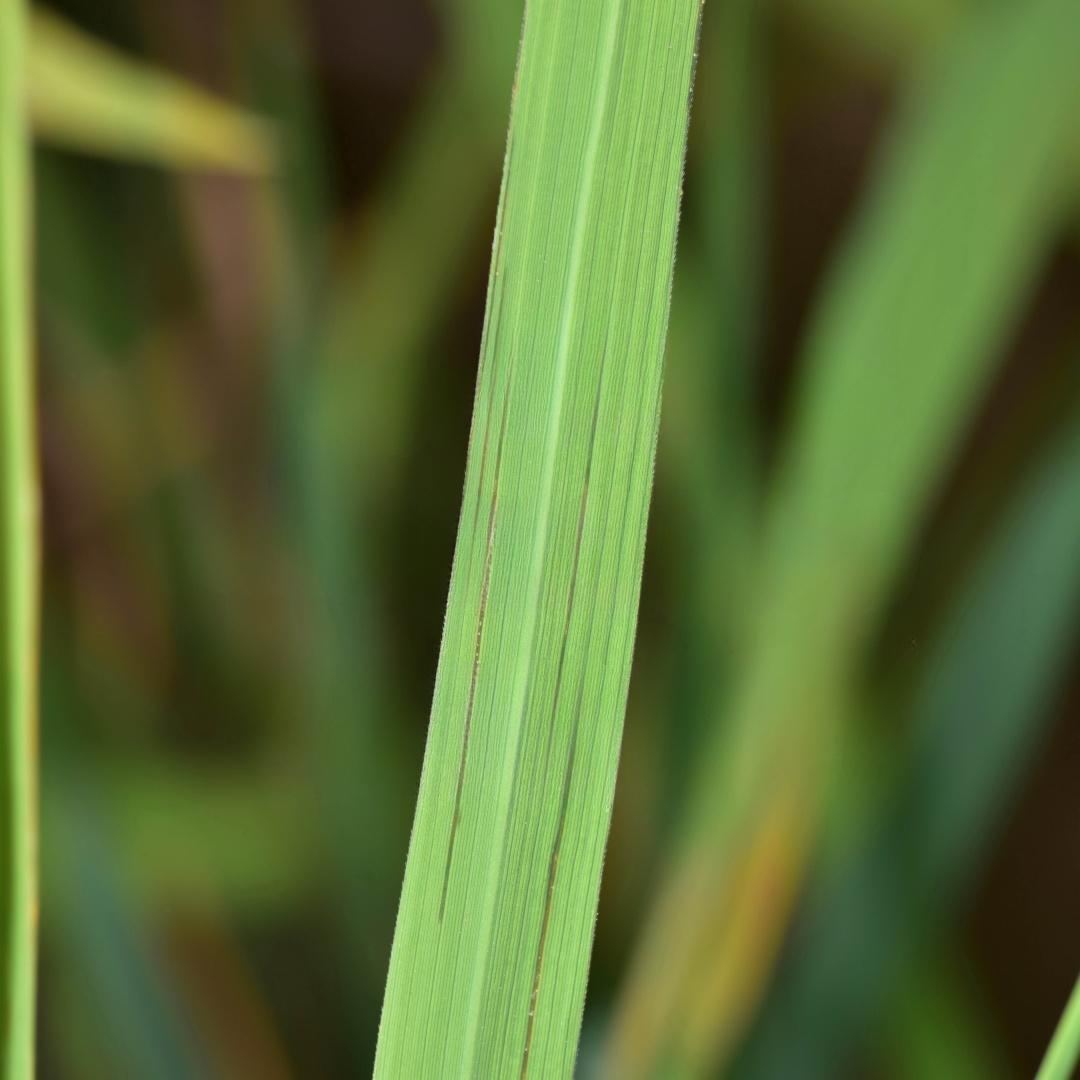BLS: (440, 342, 513, 920), (543, 341, 606, 787), (520, 658, 585, 1079), (469, 267, 504, 579), (480, 128, 516, 406)
